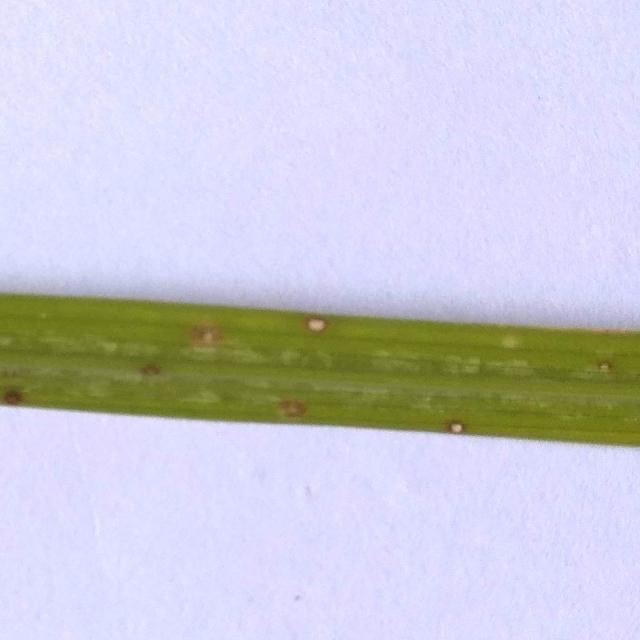Leaf blast: (2, 264, 640, 497)
